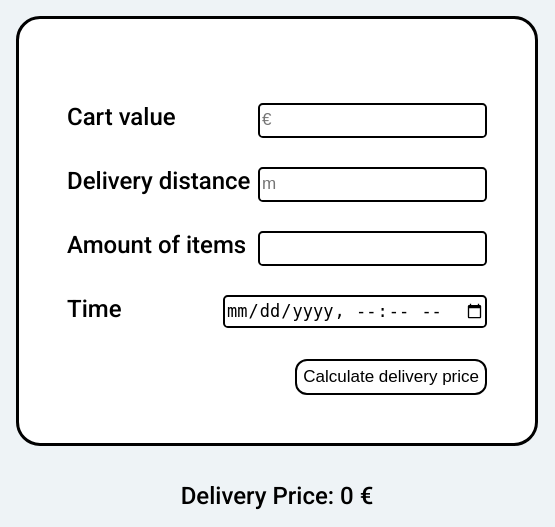
MAX FEE IS 15$
Type "60" into the number field with test id "cart-value" at (372, 120), box [258,103,487,138]
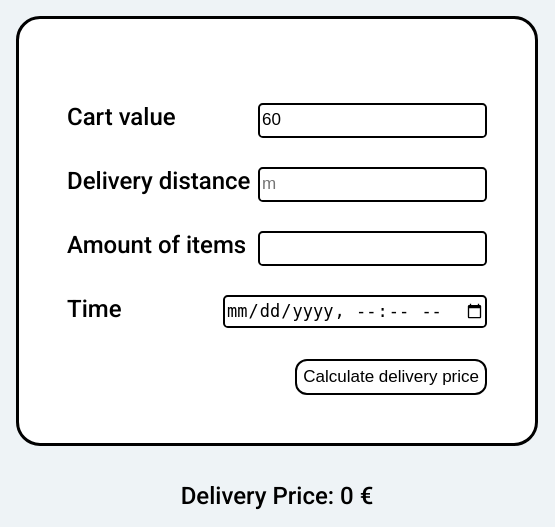
Type "2200" into the number field with test id "delivery-distance" at (372, 184), box [258,167,487,202]
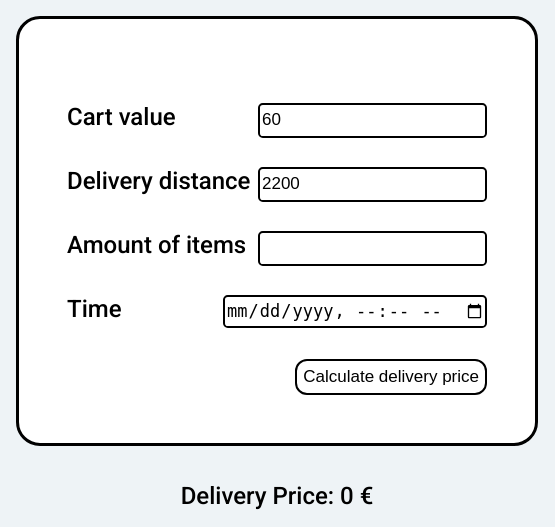
Type "25" into the number field with test id "items" at (372, 248), box [258,231,487,266]
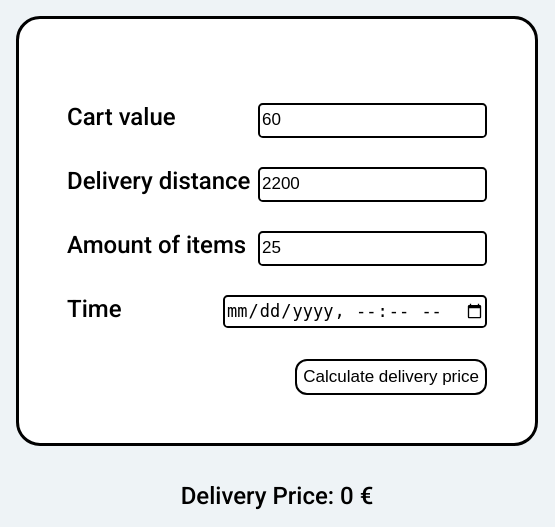
Type "2021-10-22T17:00" into the field with test id "time" at (355, 311), box [223,295,487,328]
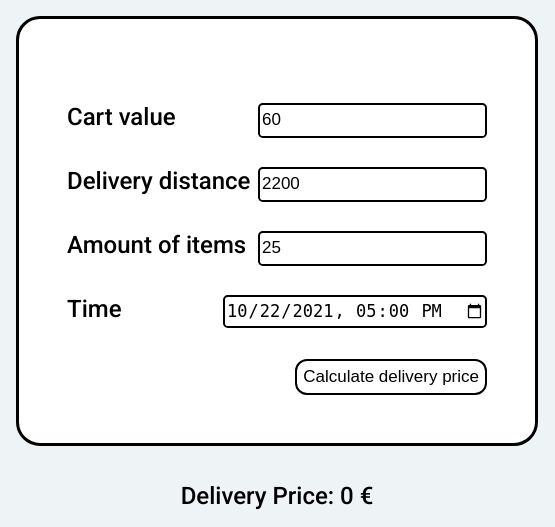
Click the button with test id "btn-submit" at (391, 377), box [295,359,487,395]
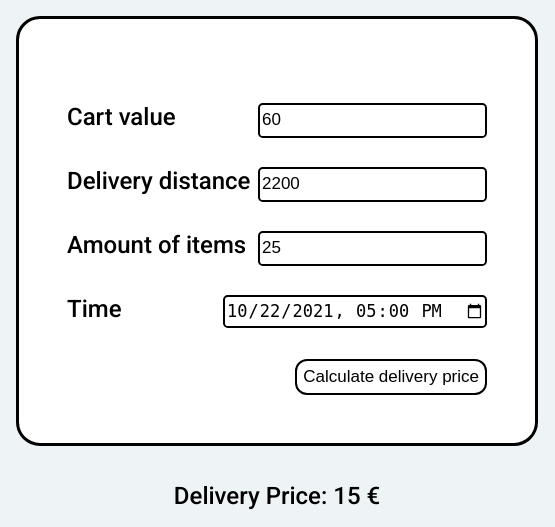
Now the text with test id "delivery-fee" reads "15", box [333,482,360,510]
